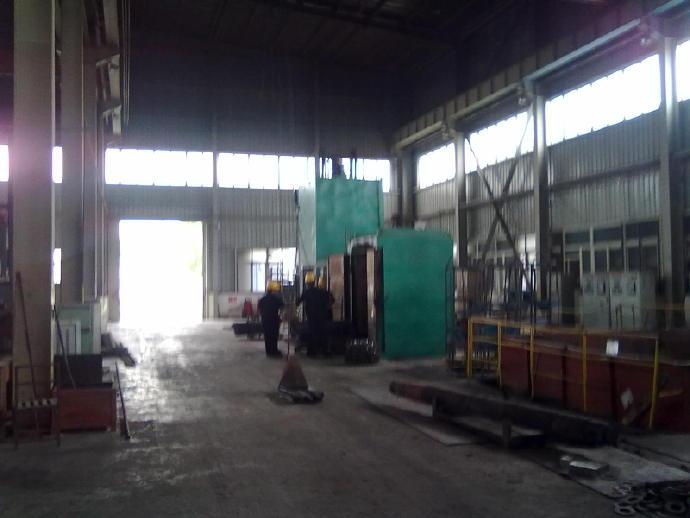helmet: (259, 276, 283, 290), (303, 269, 318, 286), (315, 276, 330, 287)
